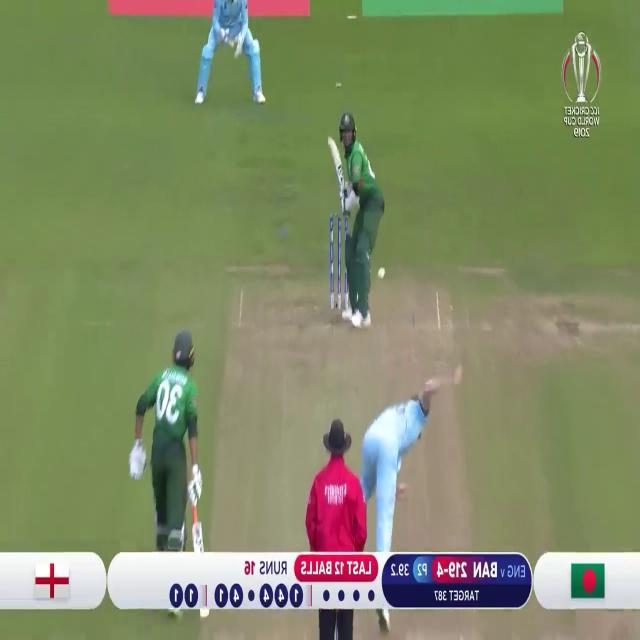ball: (376, 263, 388, 283)
